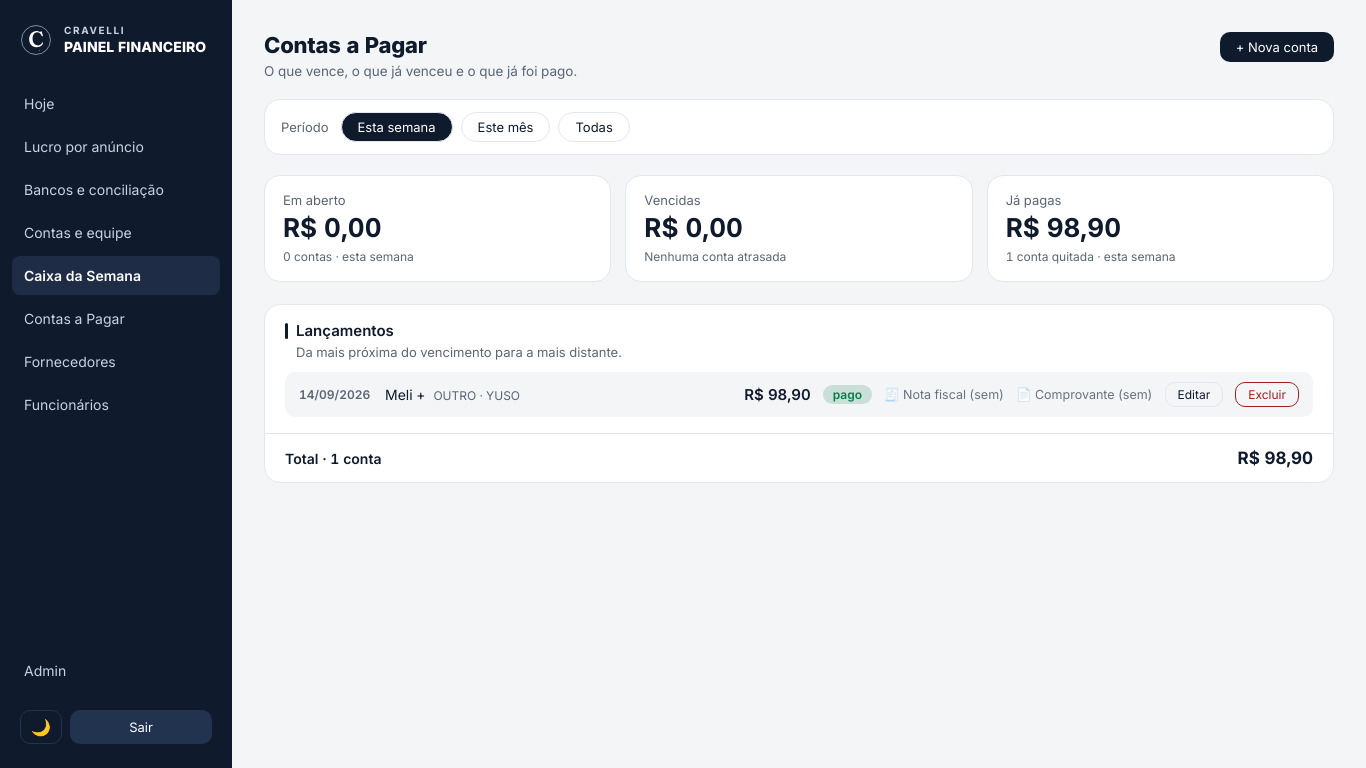
Scenario: Contas a Pagar — excluir conta › mostra erro e não recarrega a lista se o servidor falhar
The image size is (1366, 768).
What coordinates should you click on to do the following:
click the button "Excluir"
I would click on:
 (1267, 395)
Its box is [1235, 382, 1299, 407].
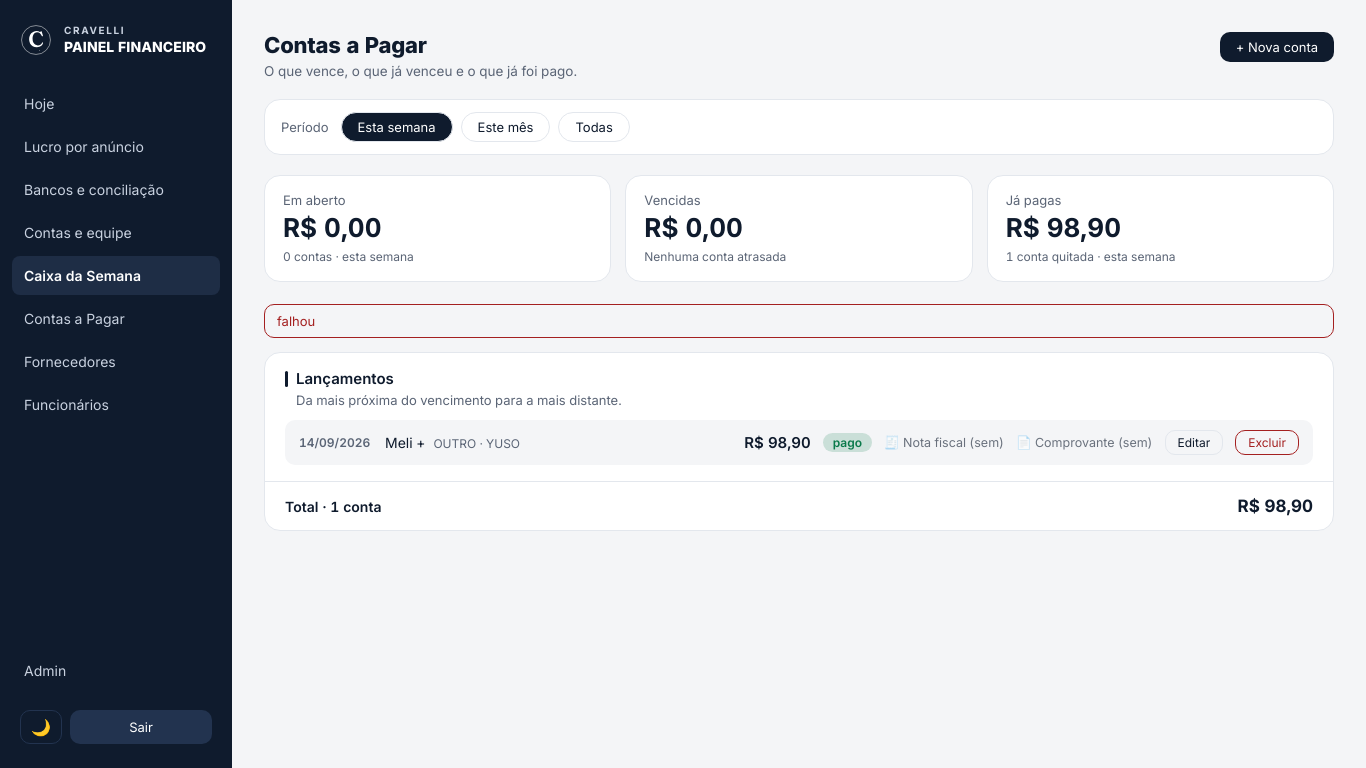
Result: the text "falhou" is shown at [264, 304, 1334, 338]
